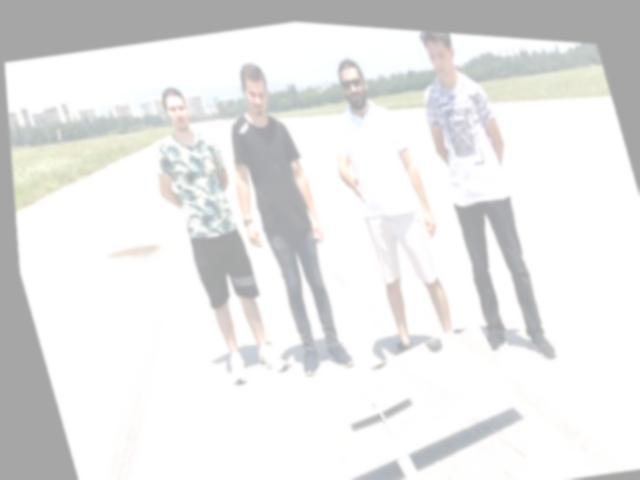insansiz-hava-araci: (221, 308, 546, 480)
